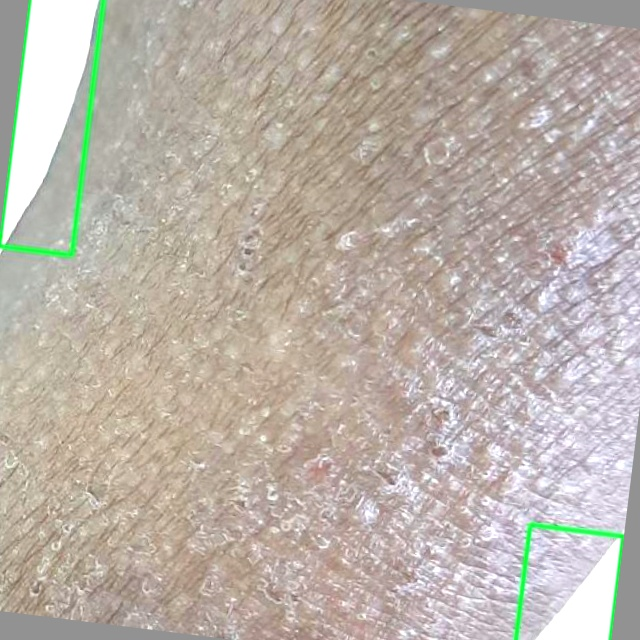Contact Dermatitis: (0, 0, 103, 256), (516, 524, 623, 639)
